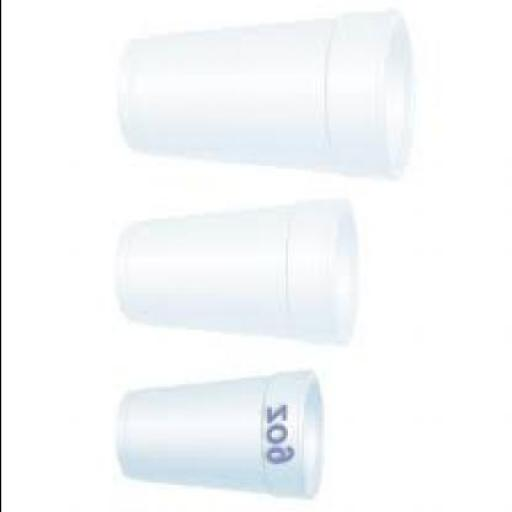paper: (125, 14, 414, 180), (111, 205, 360, 345), (118, 373, 326, 503)
